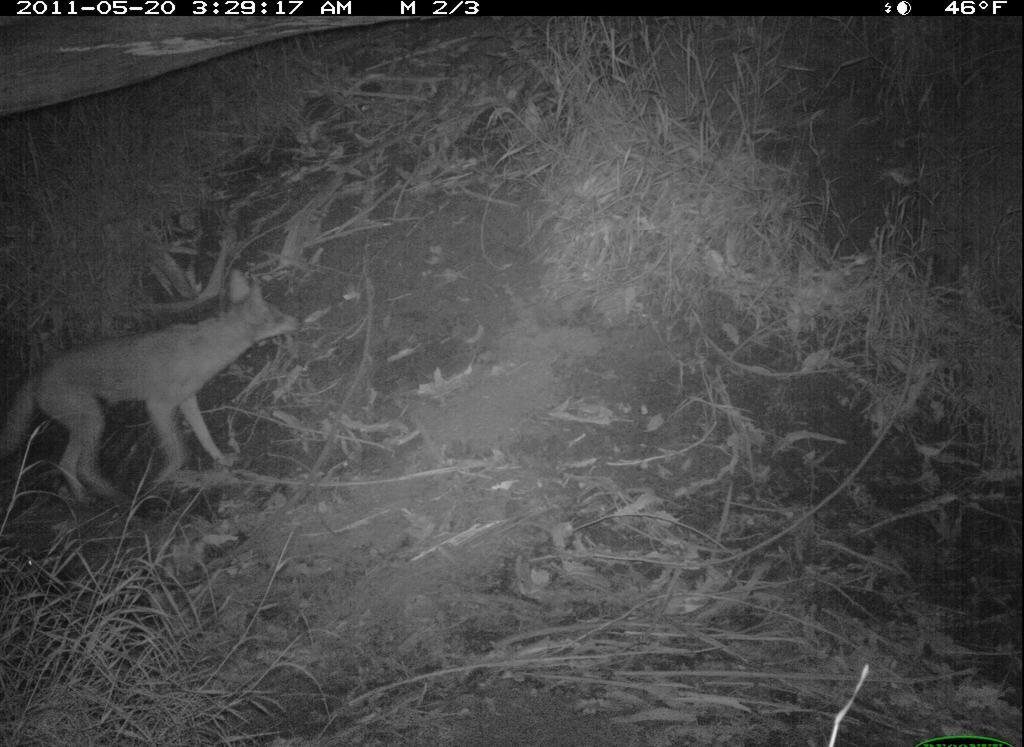coyote: (6, 272, 319, 528)
